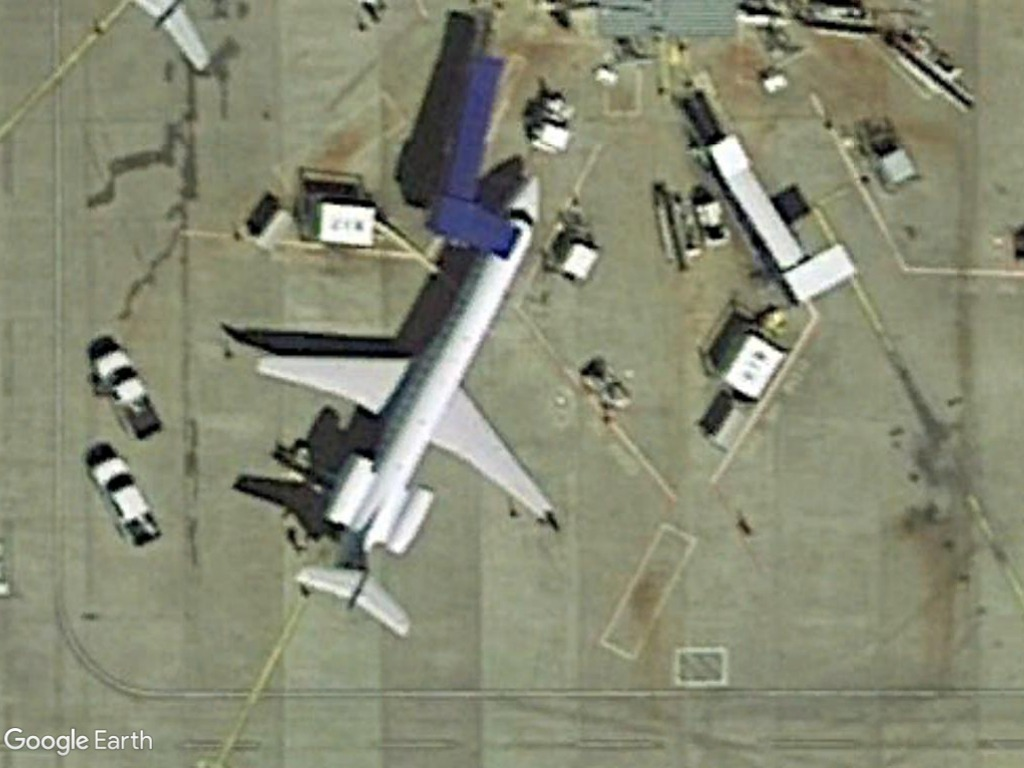chartered: (246, 169, 561, 643)
other: (82, 446, 164, 550), (91, 342, 166, 446)
